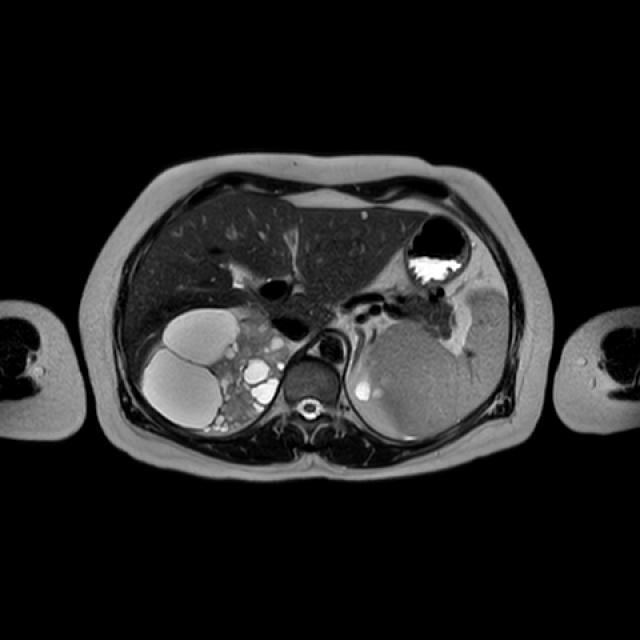sag: (141, 305, 290, 433)
sol: (353, 381, 387, 402)
